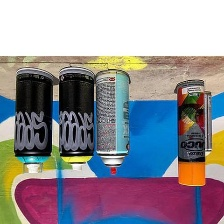aerosol_cans: (13, 63, 55, 176), (56, 64, 97, 172), (92, 68, 131, 178), (171, 78, 209, 188)
